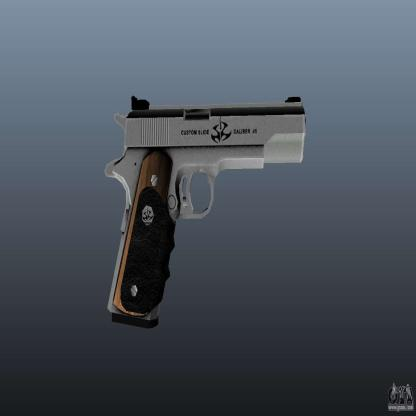handgun: (105, 92, 308, 328)
